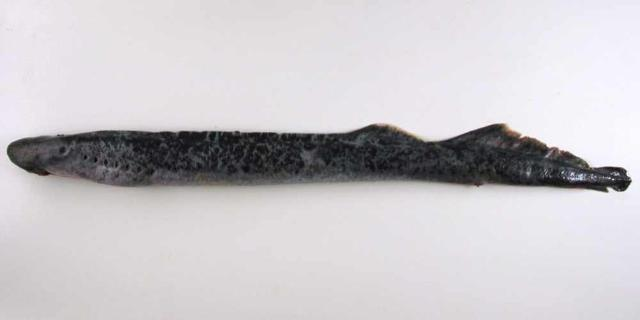Sirip Ekor: (548, 131, 636, 205)
